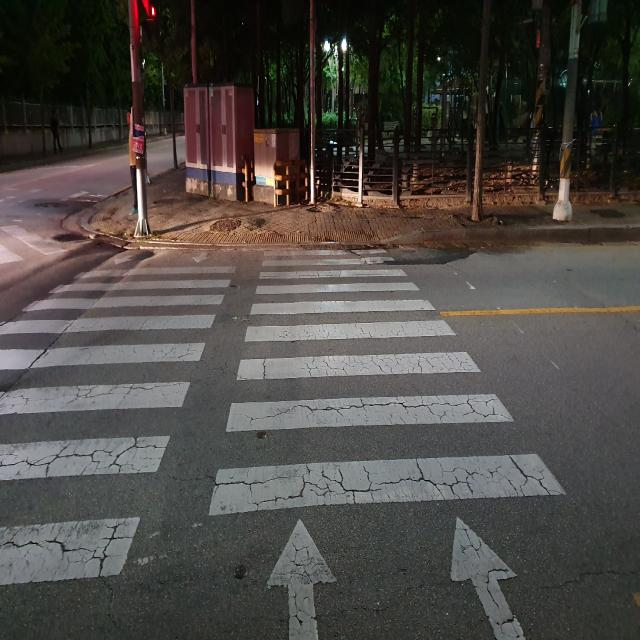횡단보도: (0, 247, 568, 640)
